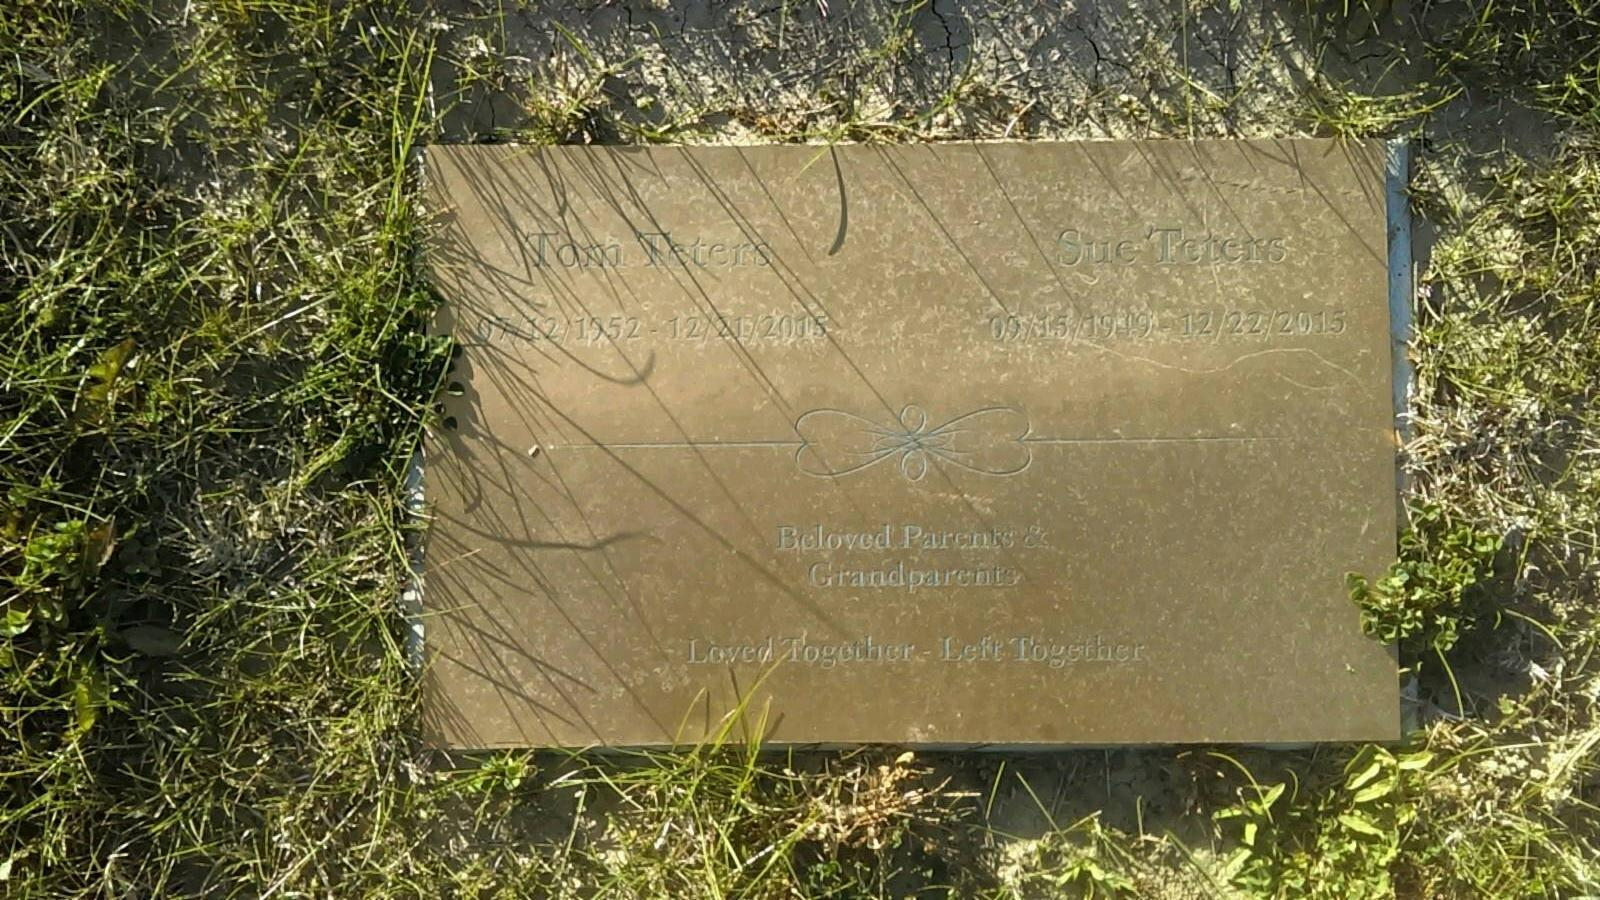flat: (407, 126, 1427, 770)
